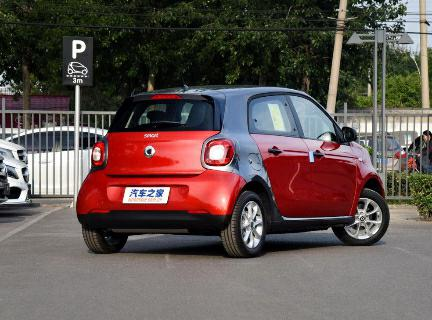smart-forfour: (60, 85, 395, 260)
